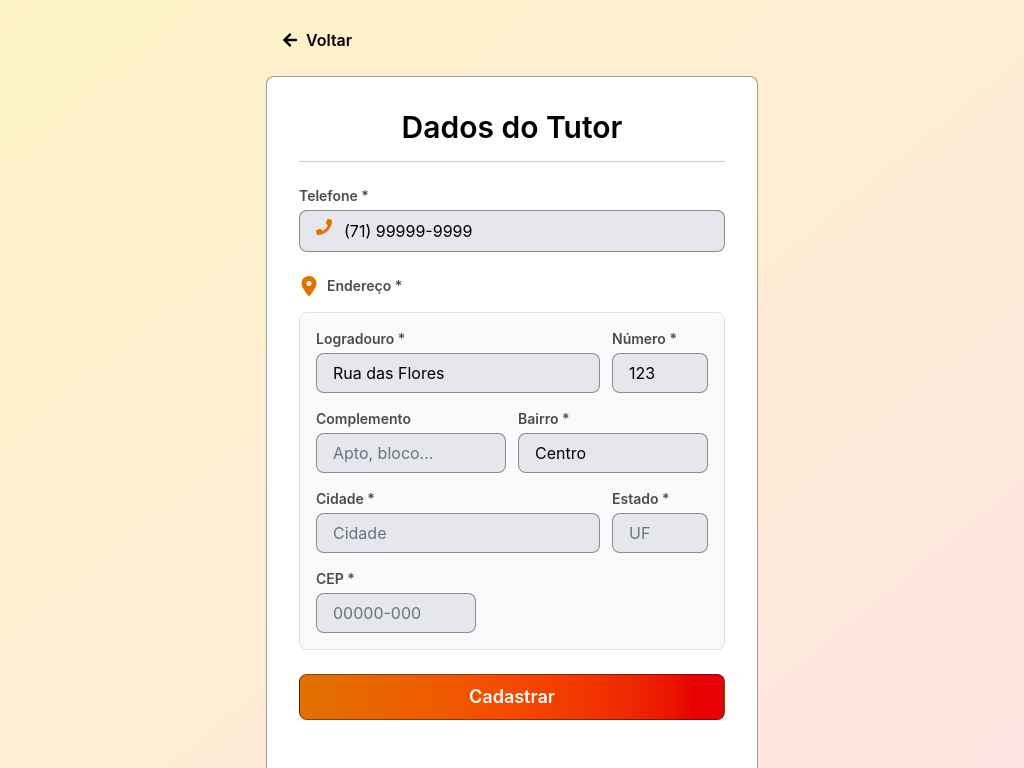
Test case: shows error when city is empty
This screenshot has width=1024, height=768.
Step 1. Click the button "Cadastrar" → x=512, y=697, box [299,674,725,720]
(page scrolled)
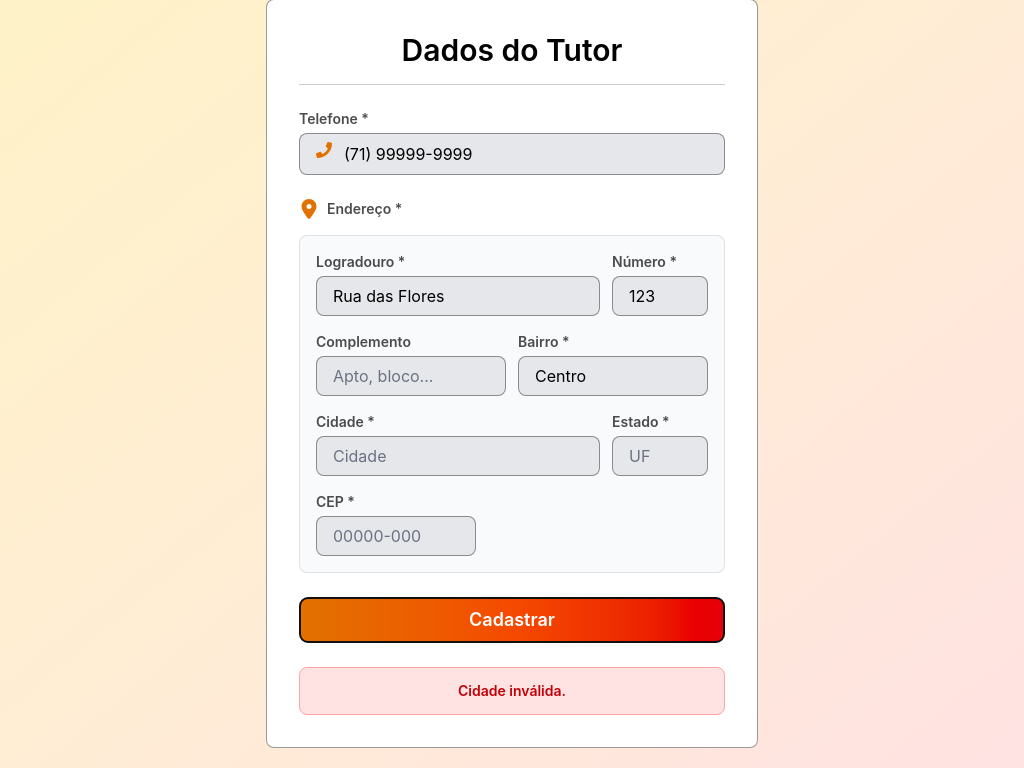
Now the text "Cidade inválida." is shown, box [299,667,725,715]
